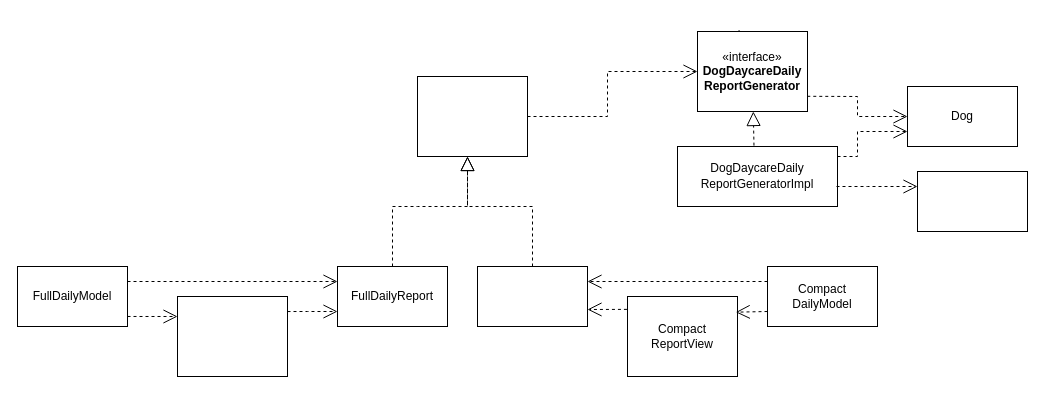
This 1045x395 diagram has some shape labels left out. The centre of each missing label's shape, as x and y in pixels:
"Compact DailyReport" belongs at pixel 532 296.
"Database" belongs at pixel 972 201.
"FullReportView" belongs at pixel 232 336.
"«interface» DogDaycare DailyReport" belongs at pixel 472 116.
